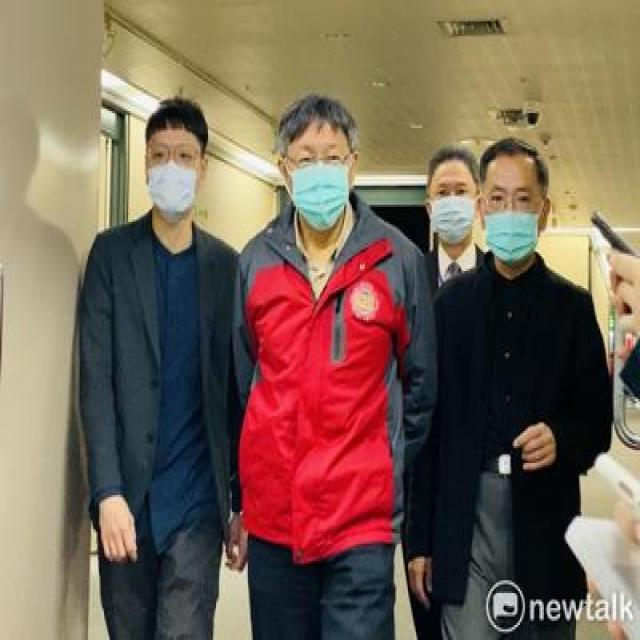with_mask: (286, 138, 353, 232), (479, 183, 545, 266), (145, 135, 201, 225), (429, 174, 480, 244)
